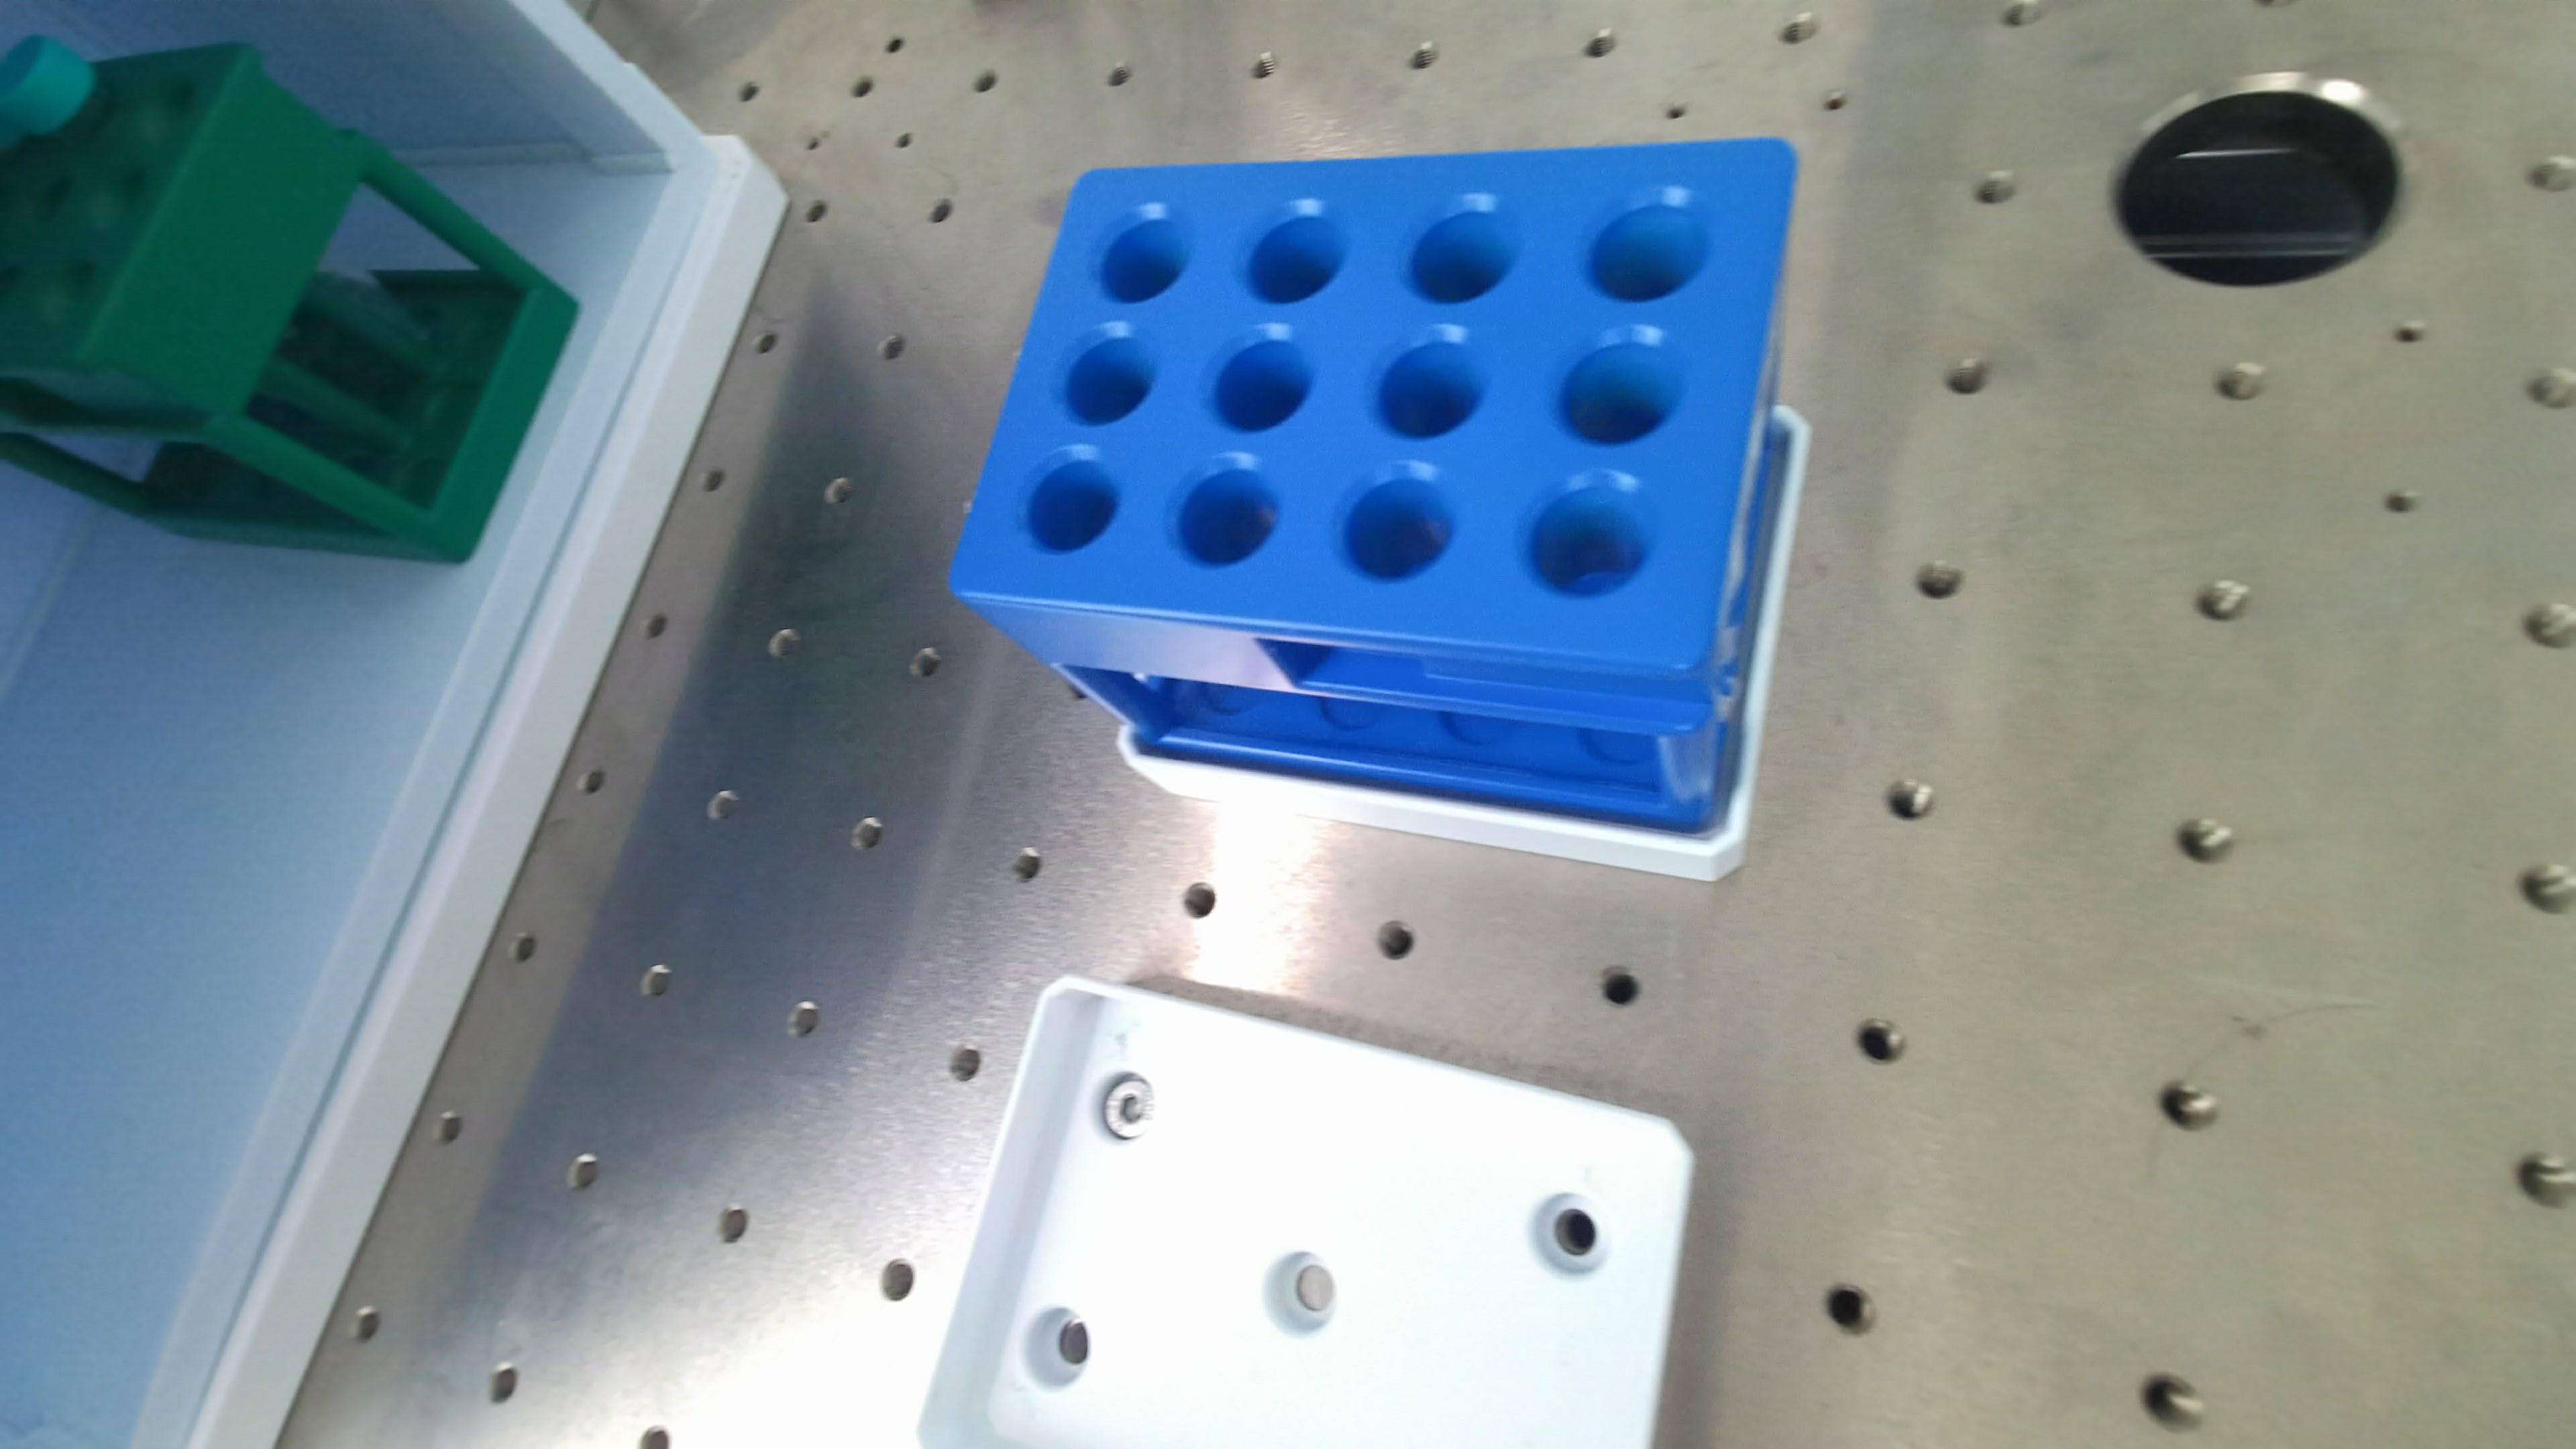10ML_sorting_tube_rack: (950, 138, 1796, 832)
5ML_centrifuge_tube: (0, 35, 94, 136)
5ML_sorting_tube_rack: (0, 35, 577, 561)
sorting_tube_rack_base: (920, 977, 1691, 1445), (1118, 407, 1812, 881)
tube_rack_storage_cabinet: (0, 0, 786, 1444)
